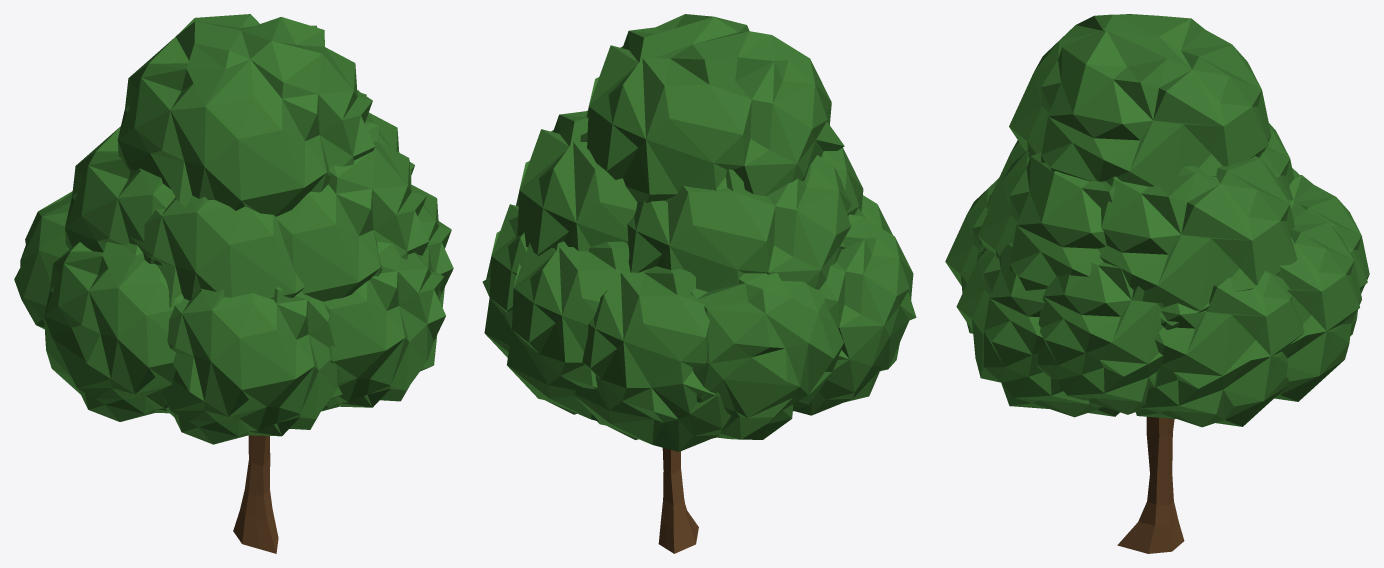
Rendered from Tree3.glb.
The picture shows the model from 3 angles, left to right: view 1: azimuth 30°, elevation 25°; view 2: azimuth 150°, elevation 25°; view 3: azimuth 270°, elevation 25°; orthographic projection. The views are drawn at different scales.
Parts seen in each view (by area): view 1: LowPoly Tree .020; view 2: LowPoly Tree .020; view 3: LowPoly Tree .020.
Boxes of the visible parts, x1,y1,x2,y2 form: LowPoly Tree .020: [14, 14, 453, 553]; LowPoly Tree .020: [482, 14, 916, 553]; LowPoly Tree .020: [945, 14, 1369, 553].
Size of the model in its own units: 1.45 by 1.9 by 1.44.
